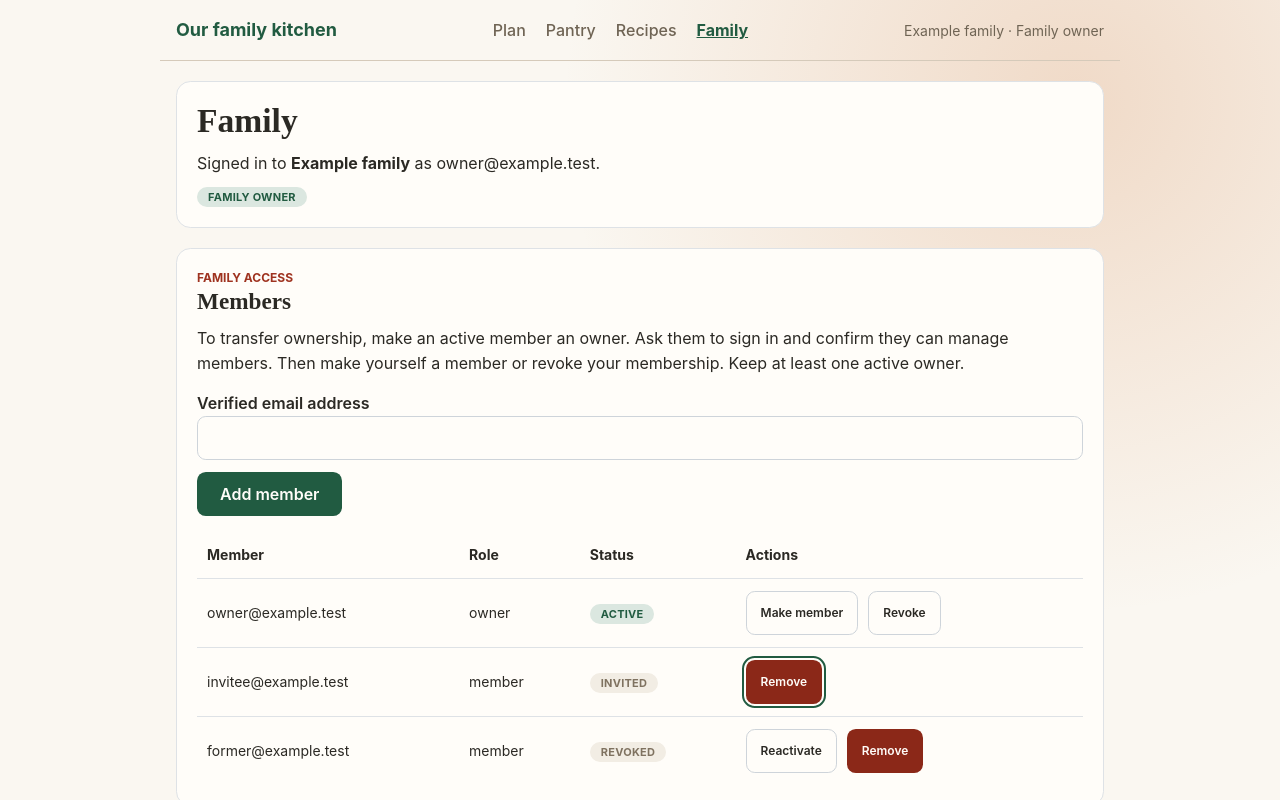
App › labels, dismisses, and restores focus from member removal confirmation
Click the button "Remove" in the row of "invitee@example.test": [784, 682] box [746,660,822,704]
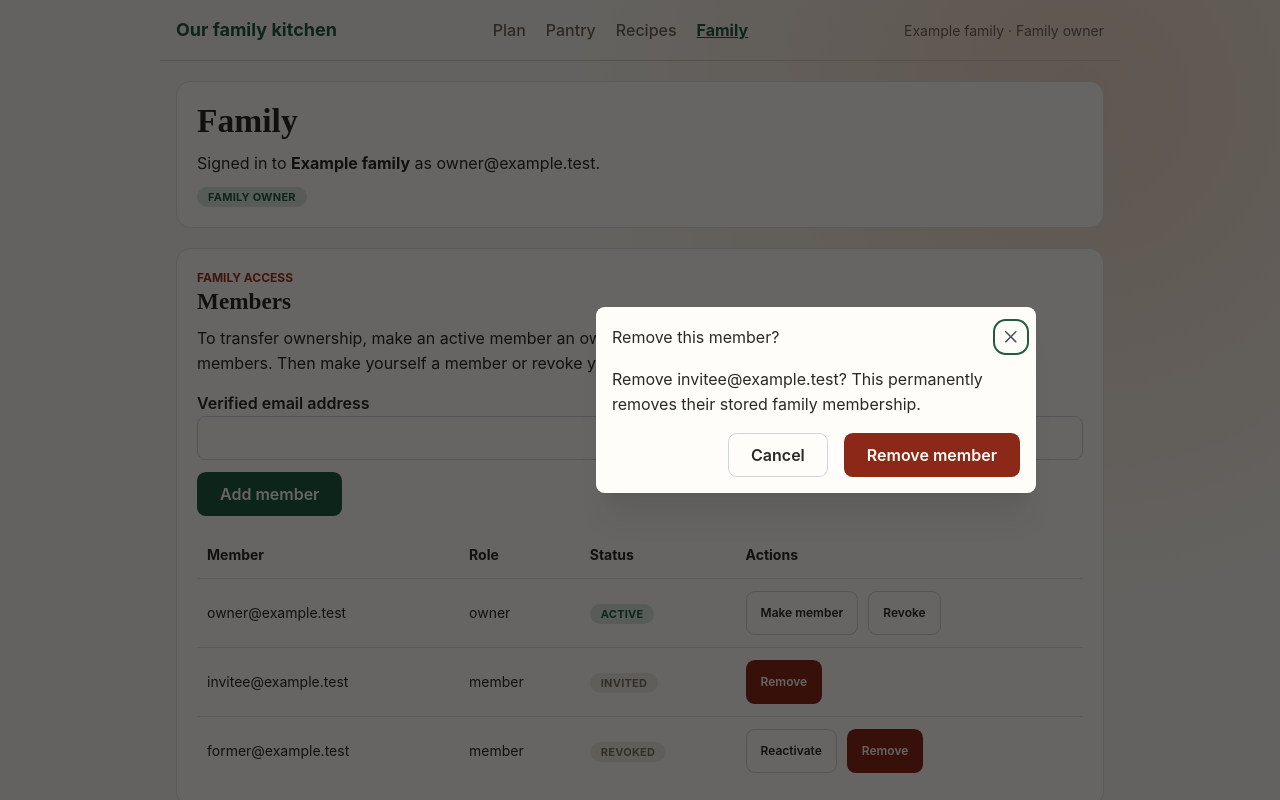
expect the dialog shows "Remove invitee@example.test?": met, box [612,369,983,414]
expect the button "Remove member" is shown: met, box [844,433,1020,477]
Press Escape in the dialog, box [596,307,1036,493]
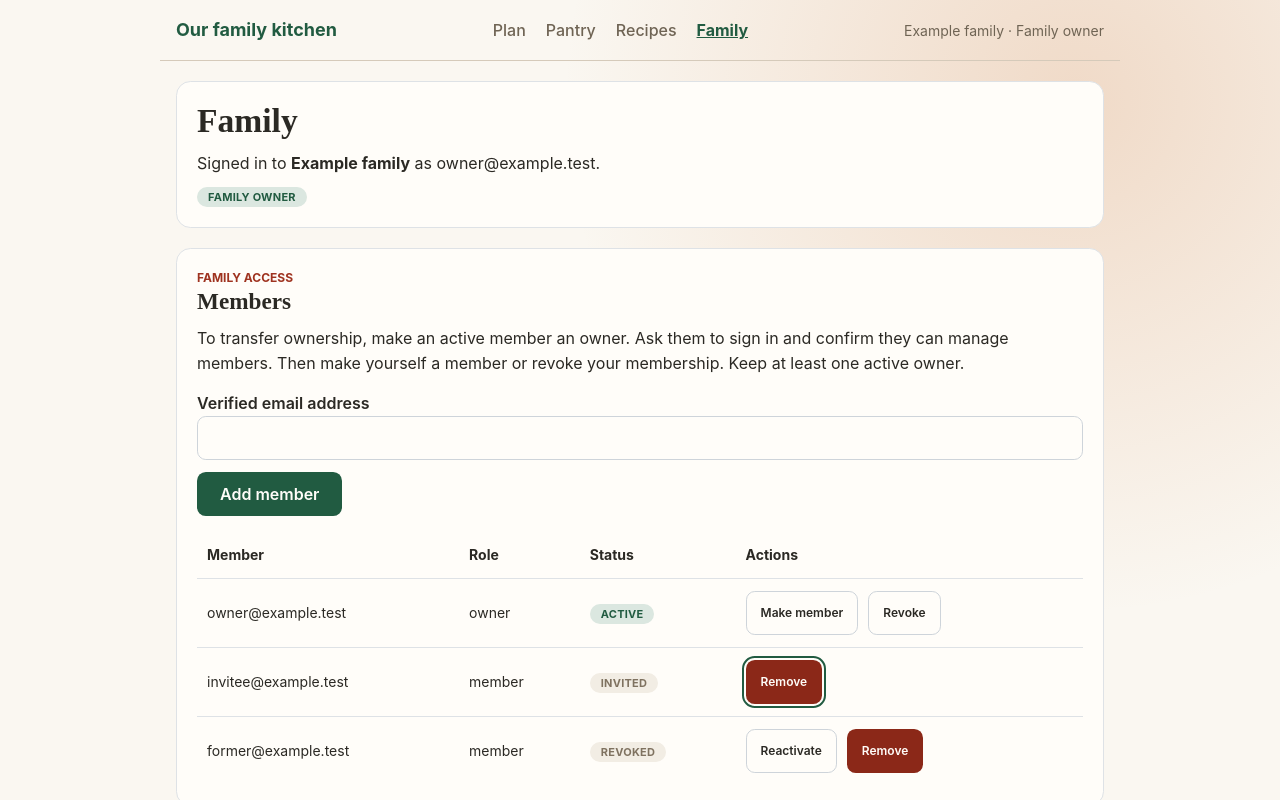
expect the dialog is gone: met
